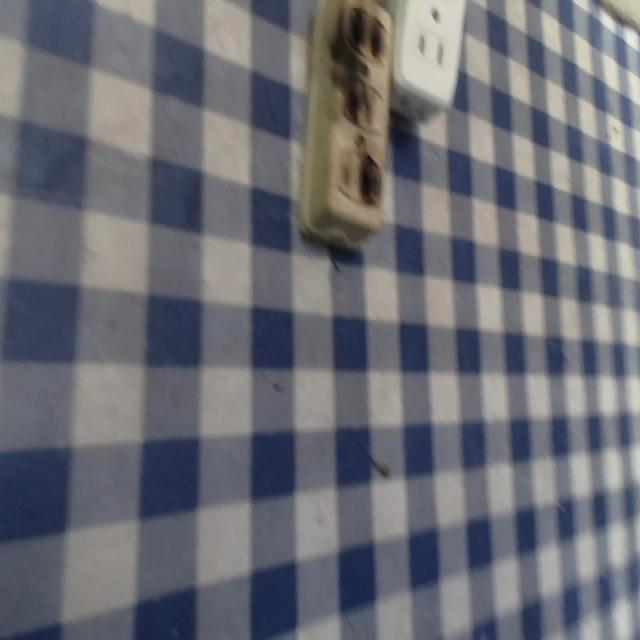-: (338, 0, 395, 65)
